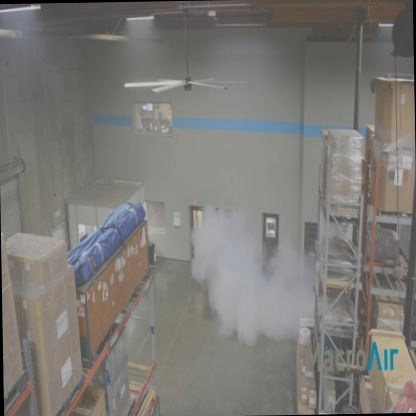smoke: (192, 208, 300, 334)
